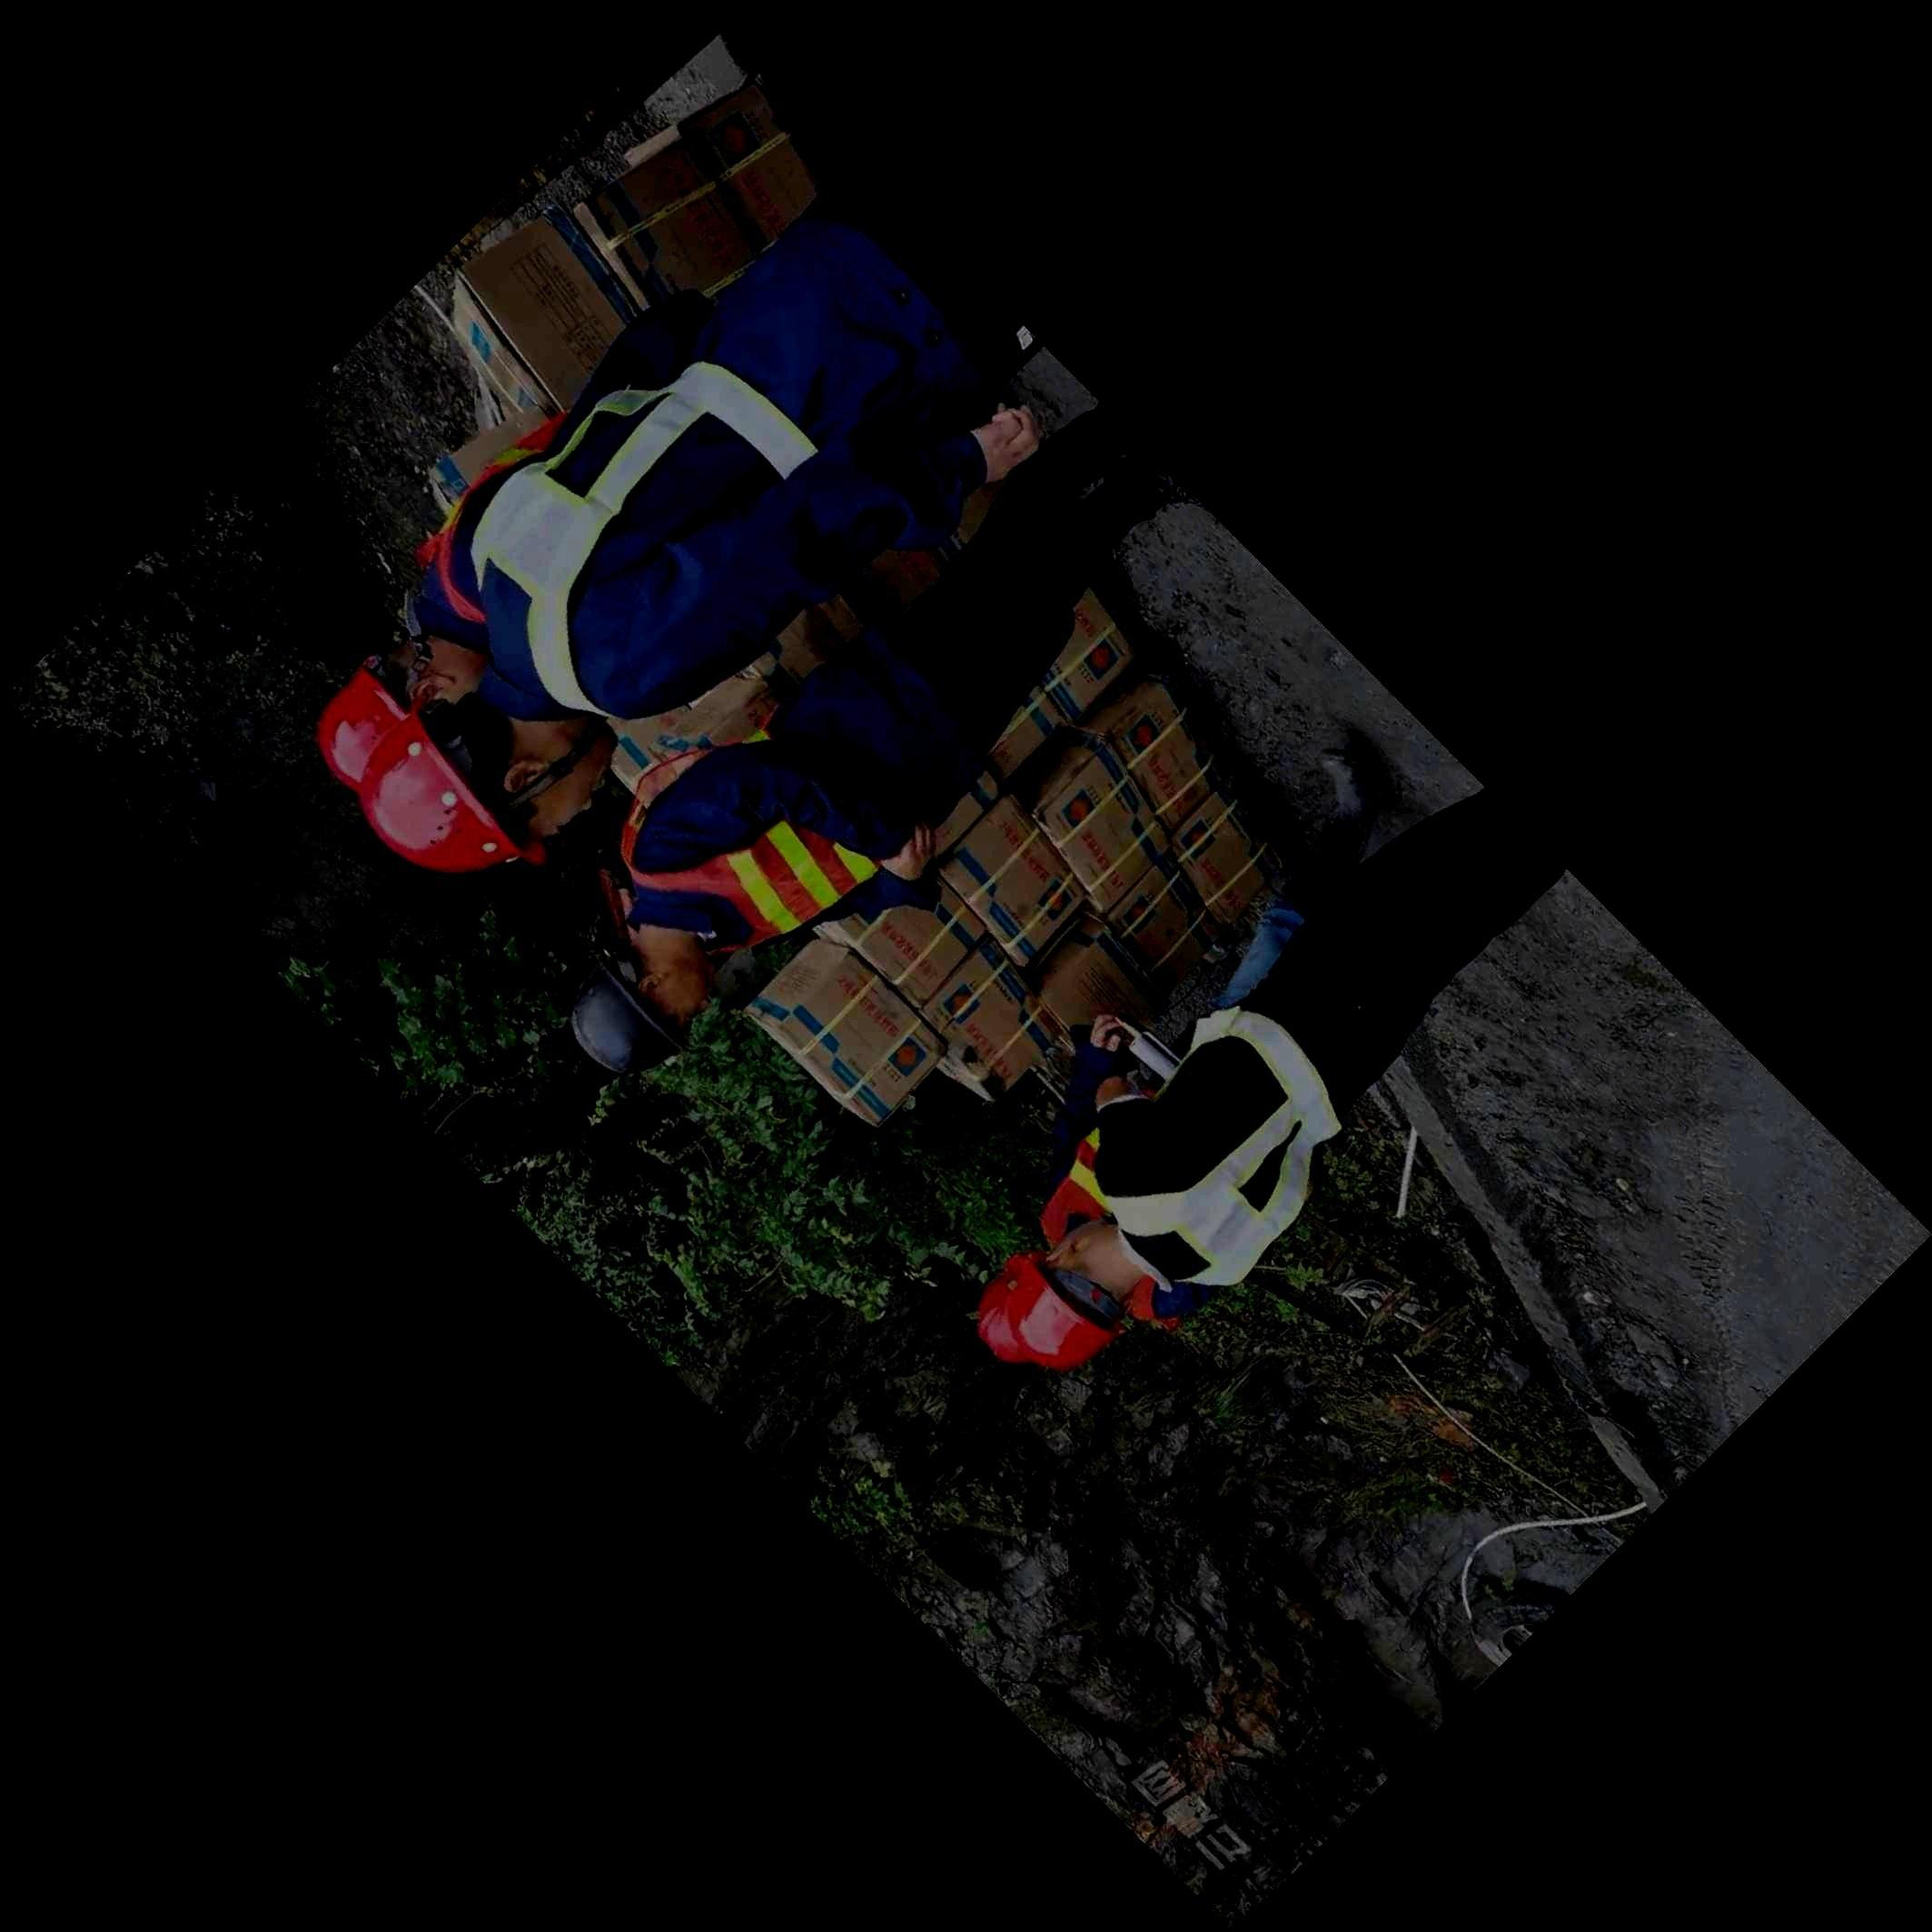helmet: (359, 681, 619, 872), (317, 632, 487, 794), (1001, 1219, 1146, 1371), (571, 934, 713, 1076), (975, 1267, 1031, 1362)
